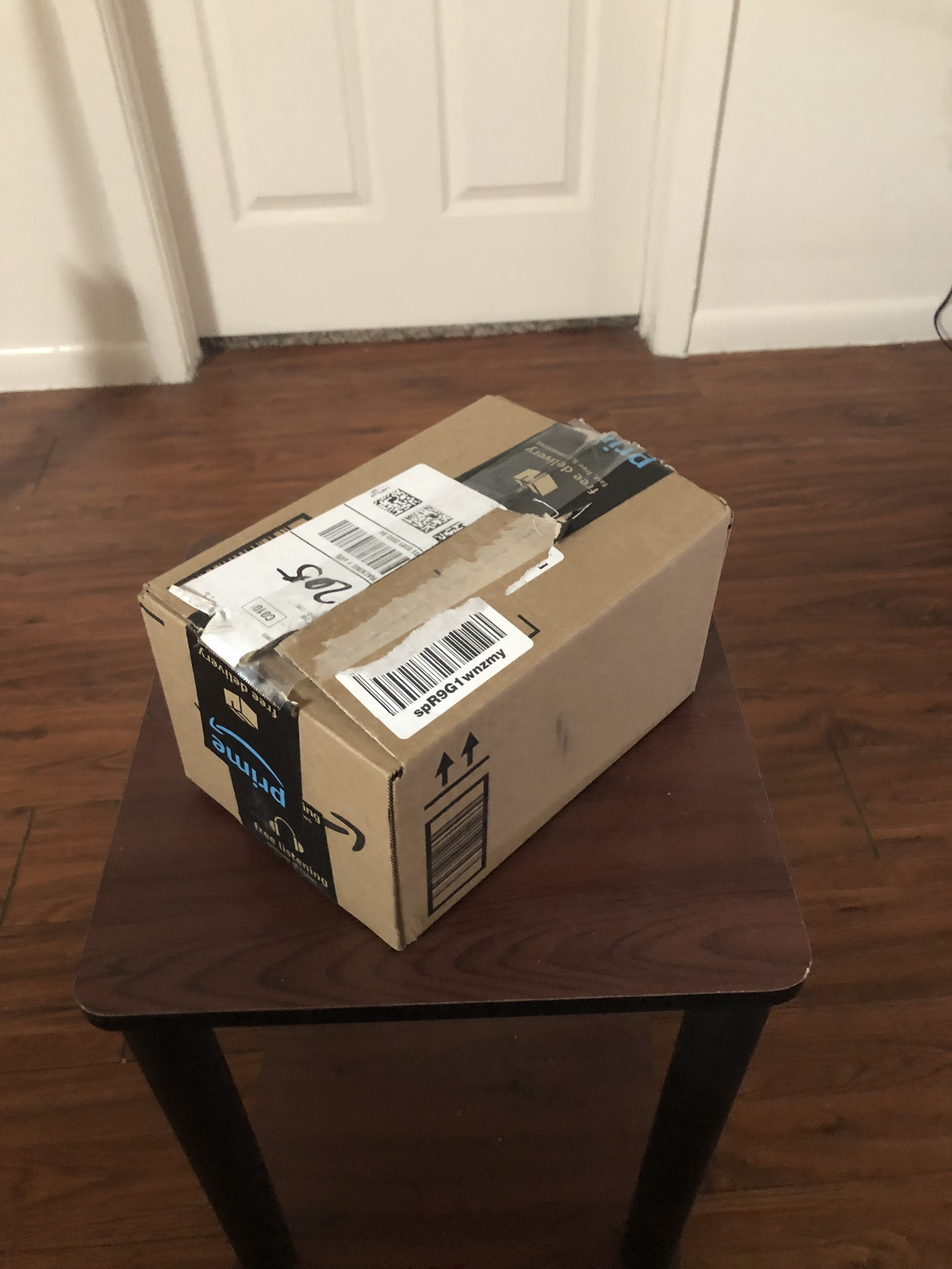package: (132, 384, 744, 963)
